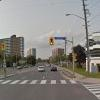Crosswalk: (1, 70, 94, 90)
